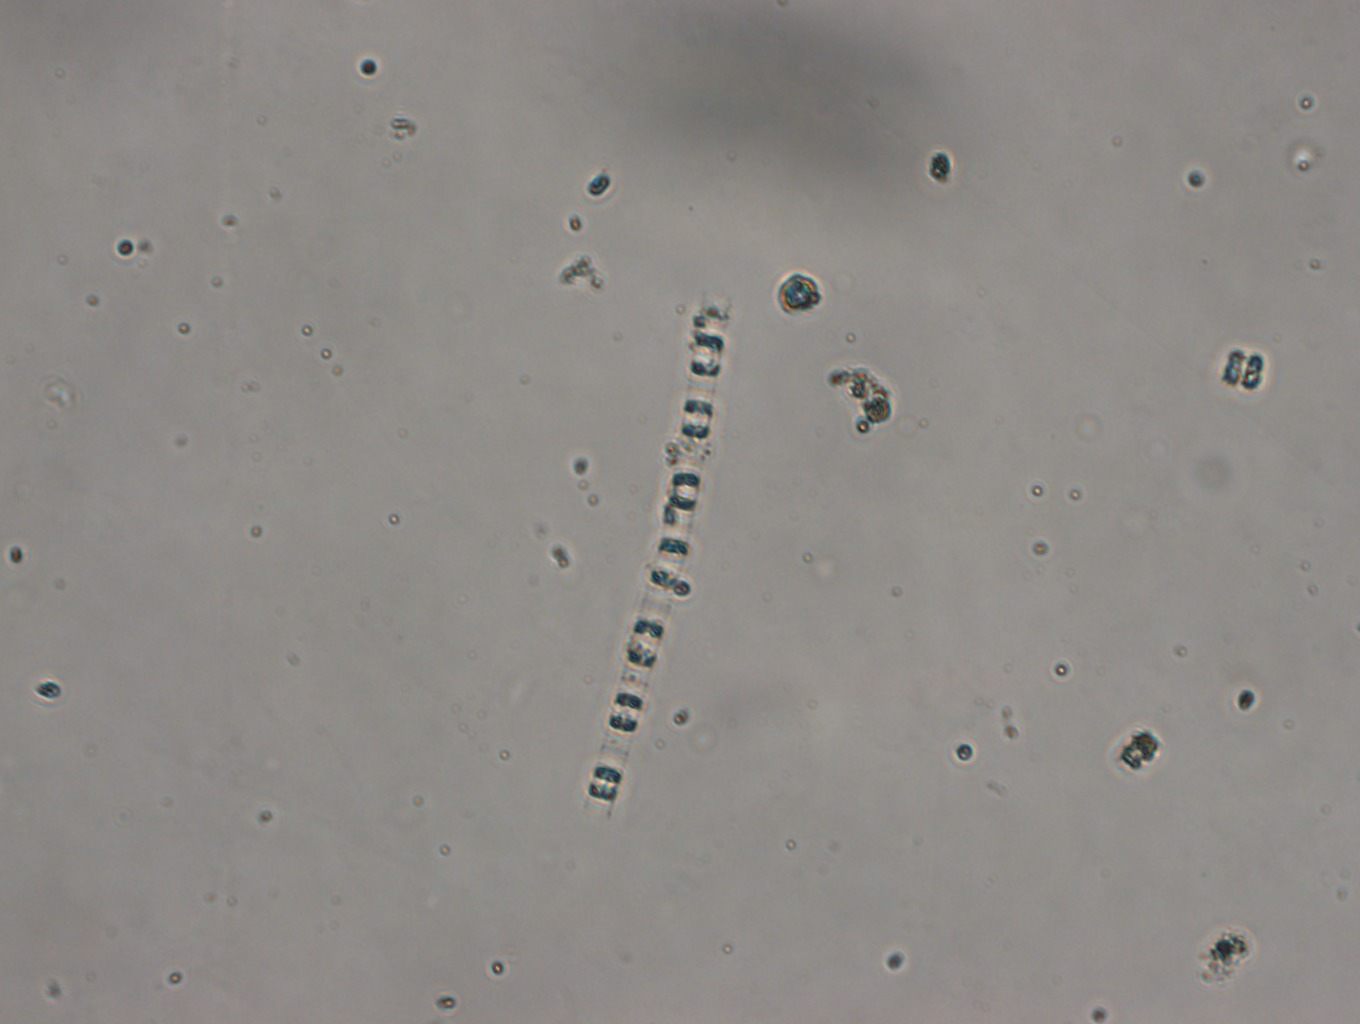skeletonema: (583, 288, 734, 821)
